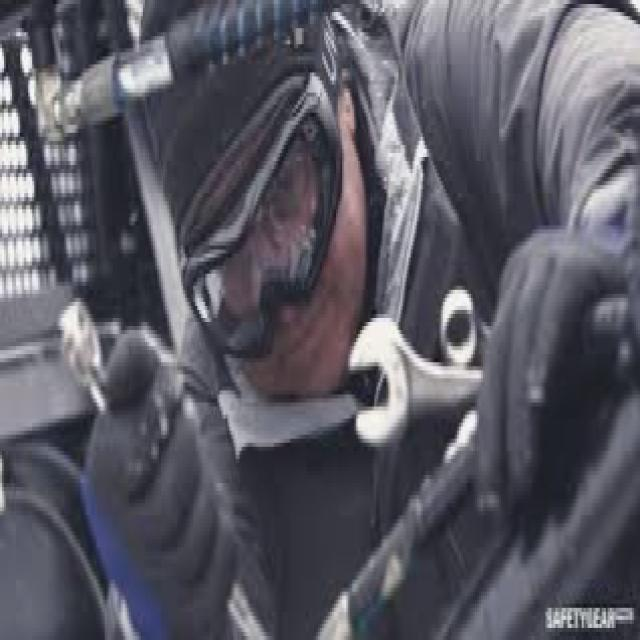glasses: (186, 87, 347, 335)
